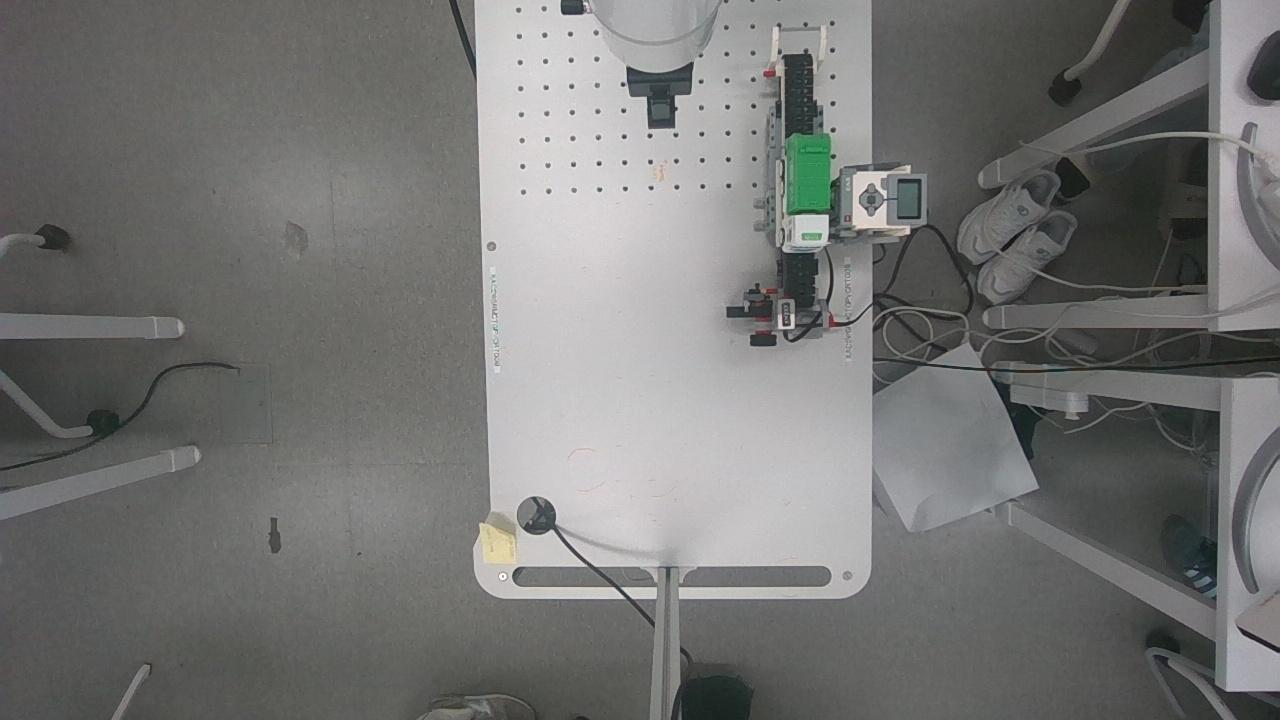truck: (763, 134, 850, 261)
